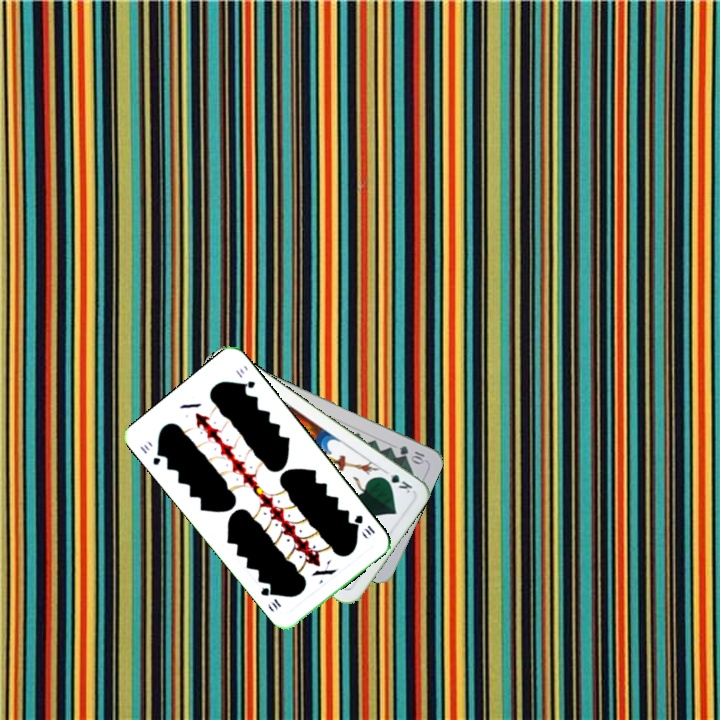G10: (135, 440, 166, 468), (395, 441, 429, 466), (350, 511, 378, 538)
GK: (377, 466, 415, 496)
